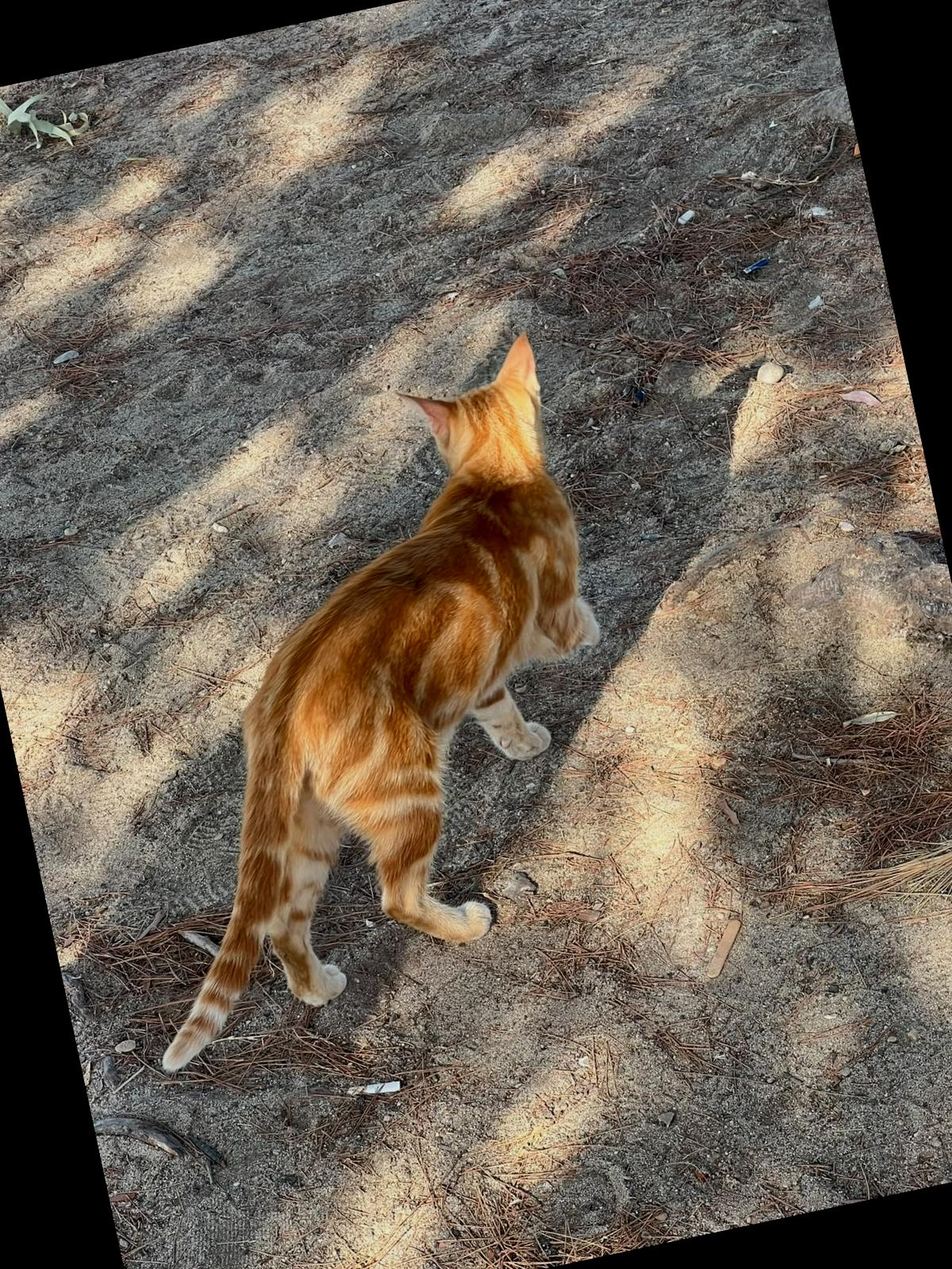macka: (26, 329, 680, 1080)
